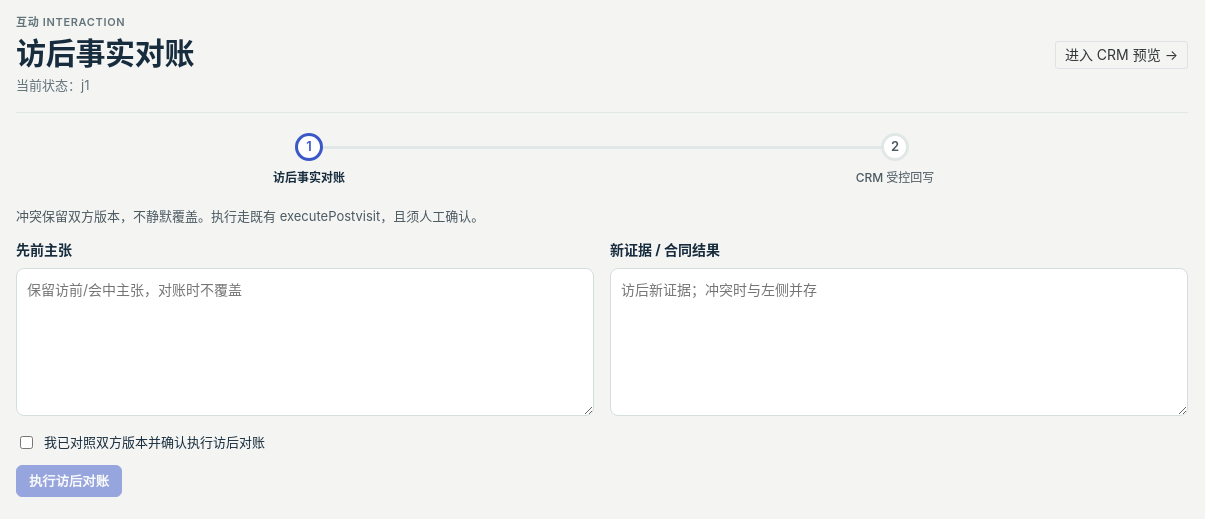
Test case: P18 PostvisitReconcileView › shows error four-state when executePostvisit fails
Click the checkbox with test id "p18-confirm".
click(26, 443)  # box [20,436,33,449]
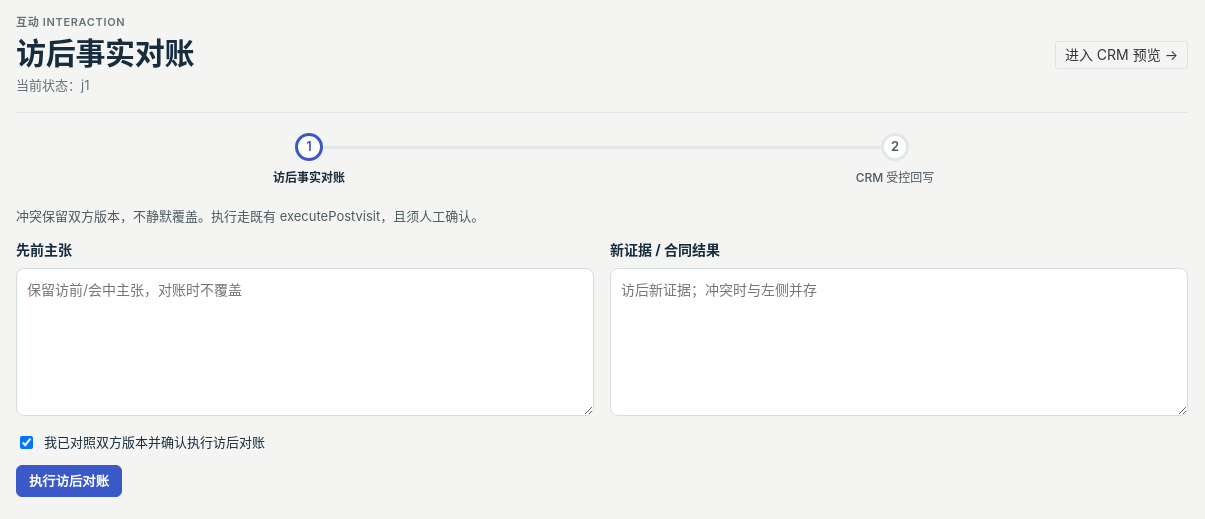
Click the button with test id "p18-execute".
click(69, 480)  # box [16,464,122,496]
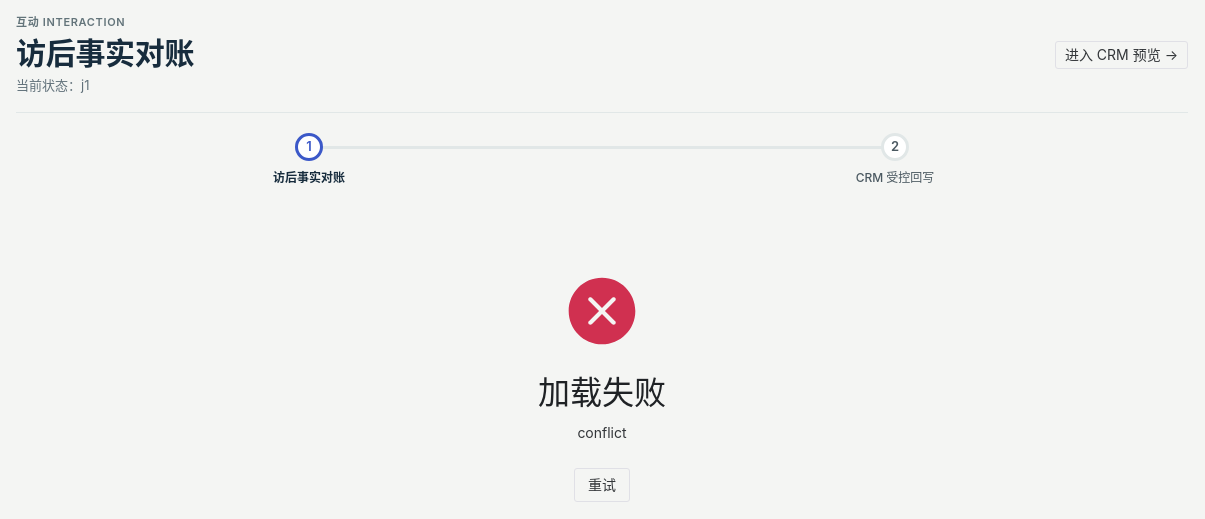
Now the element with test id "error-state" is shown, box [538,270,666,502]
